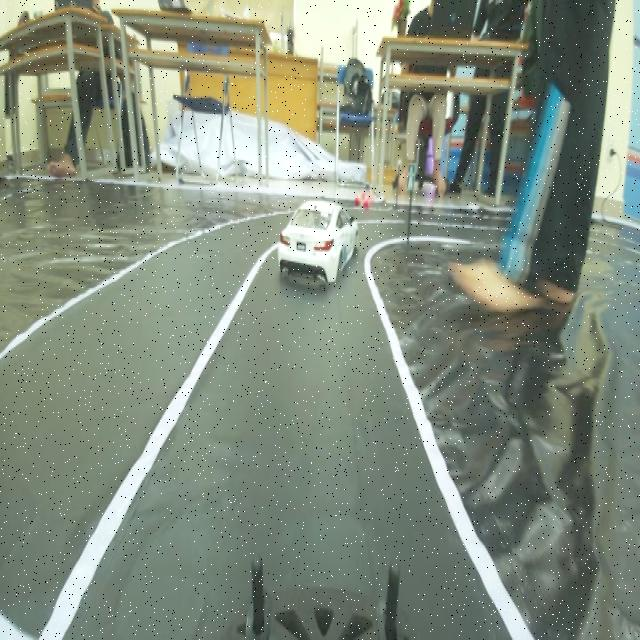car: (274, 193, 360, 300)
